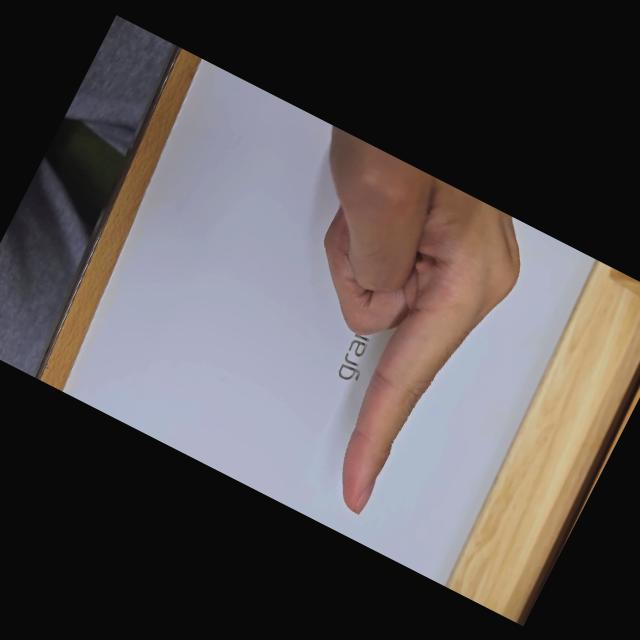finger: (313, 324, 451, 518), (342, 327, 451, 513)
